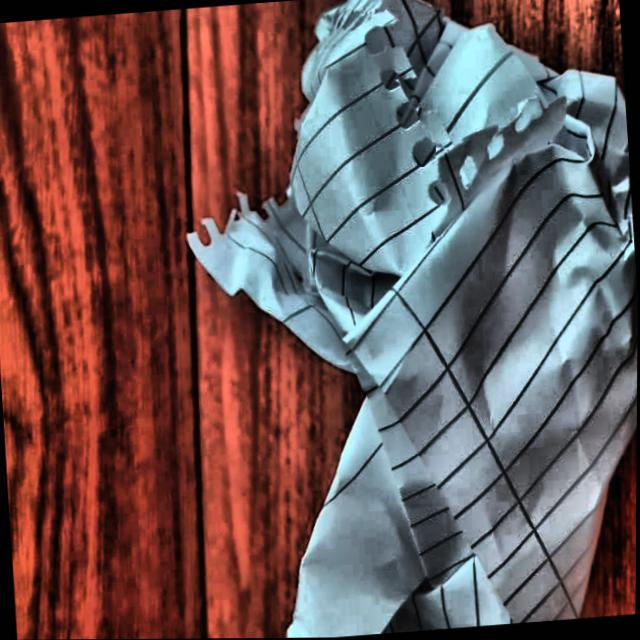paper: (214, 0, 640, 639)
